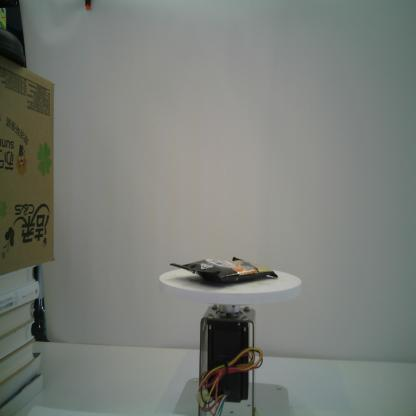Instant Drink: (169, 256, 278, 286)
